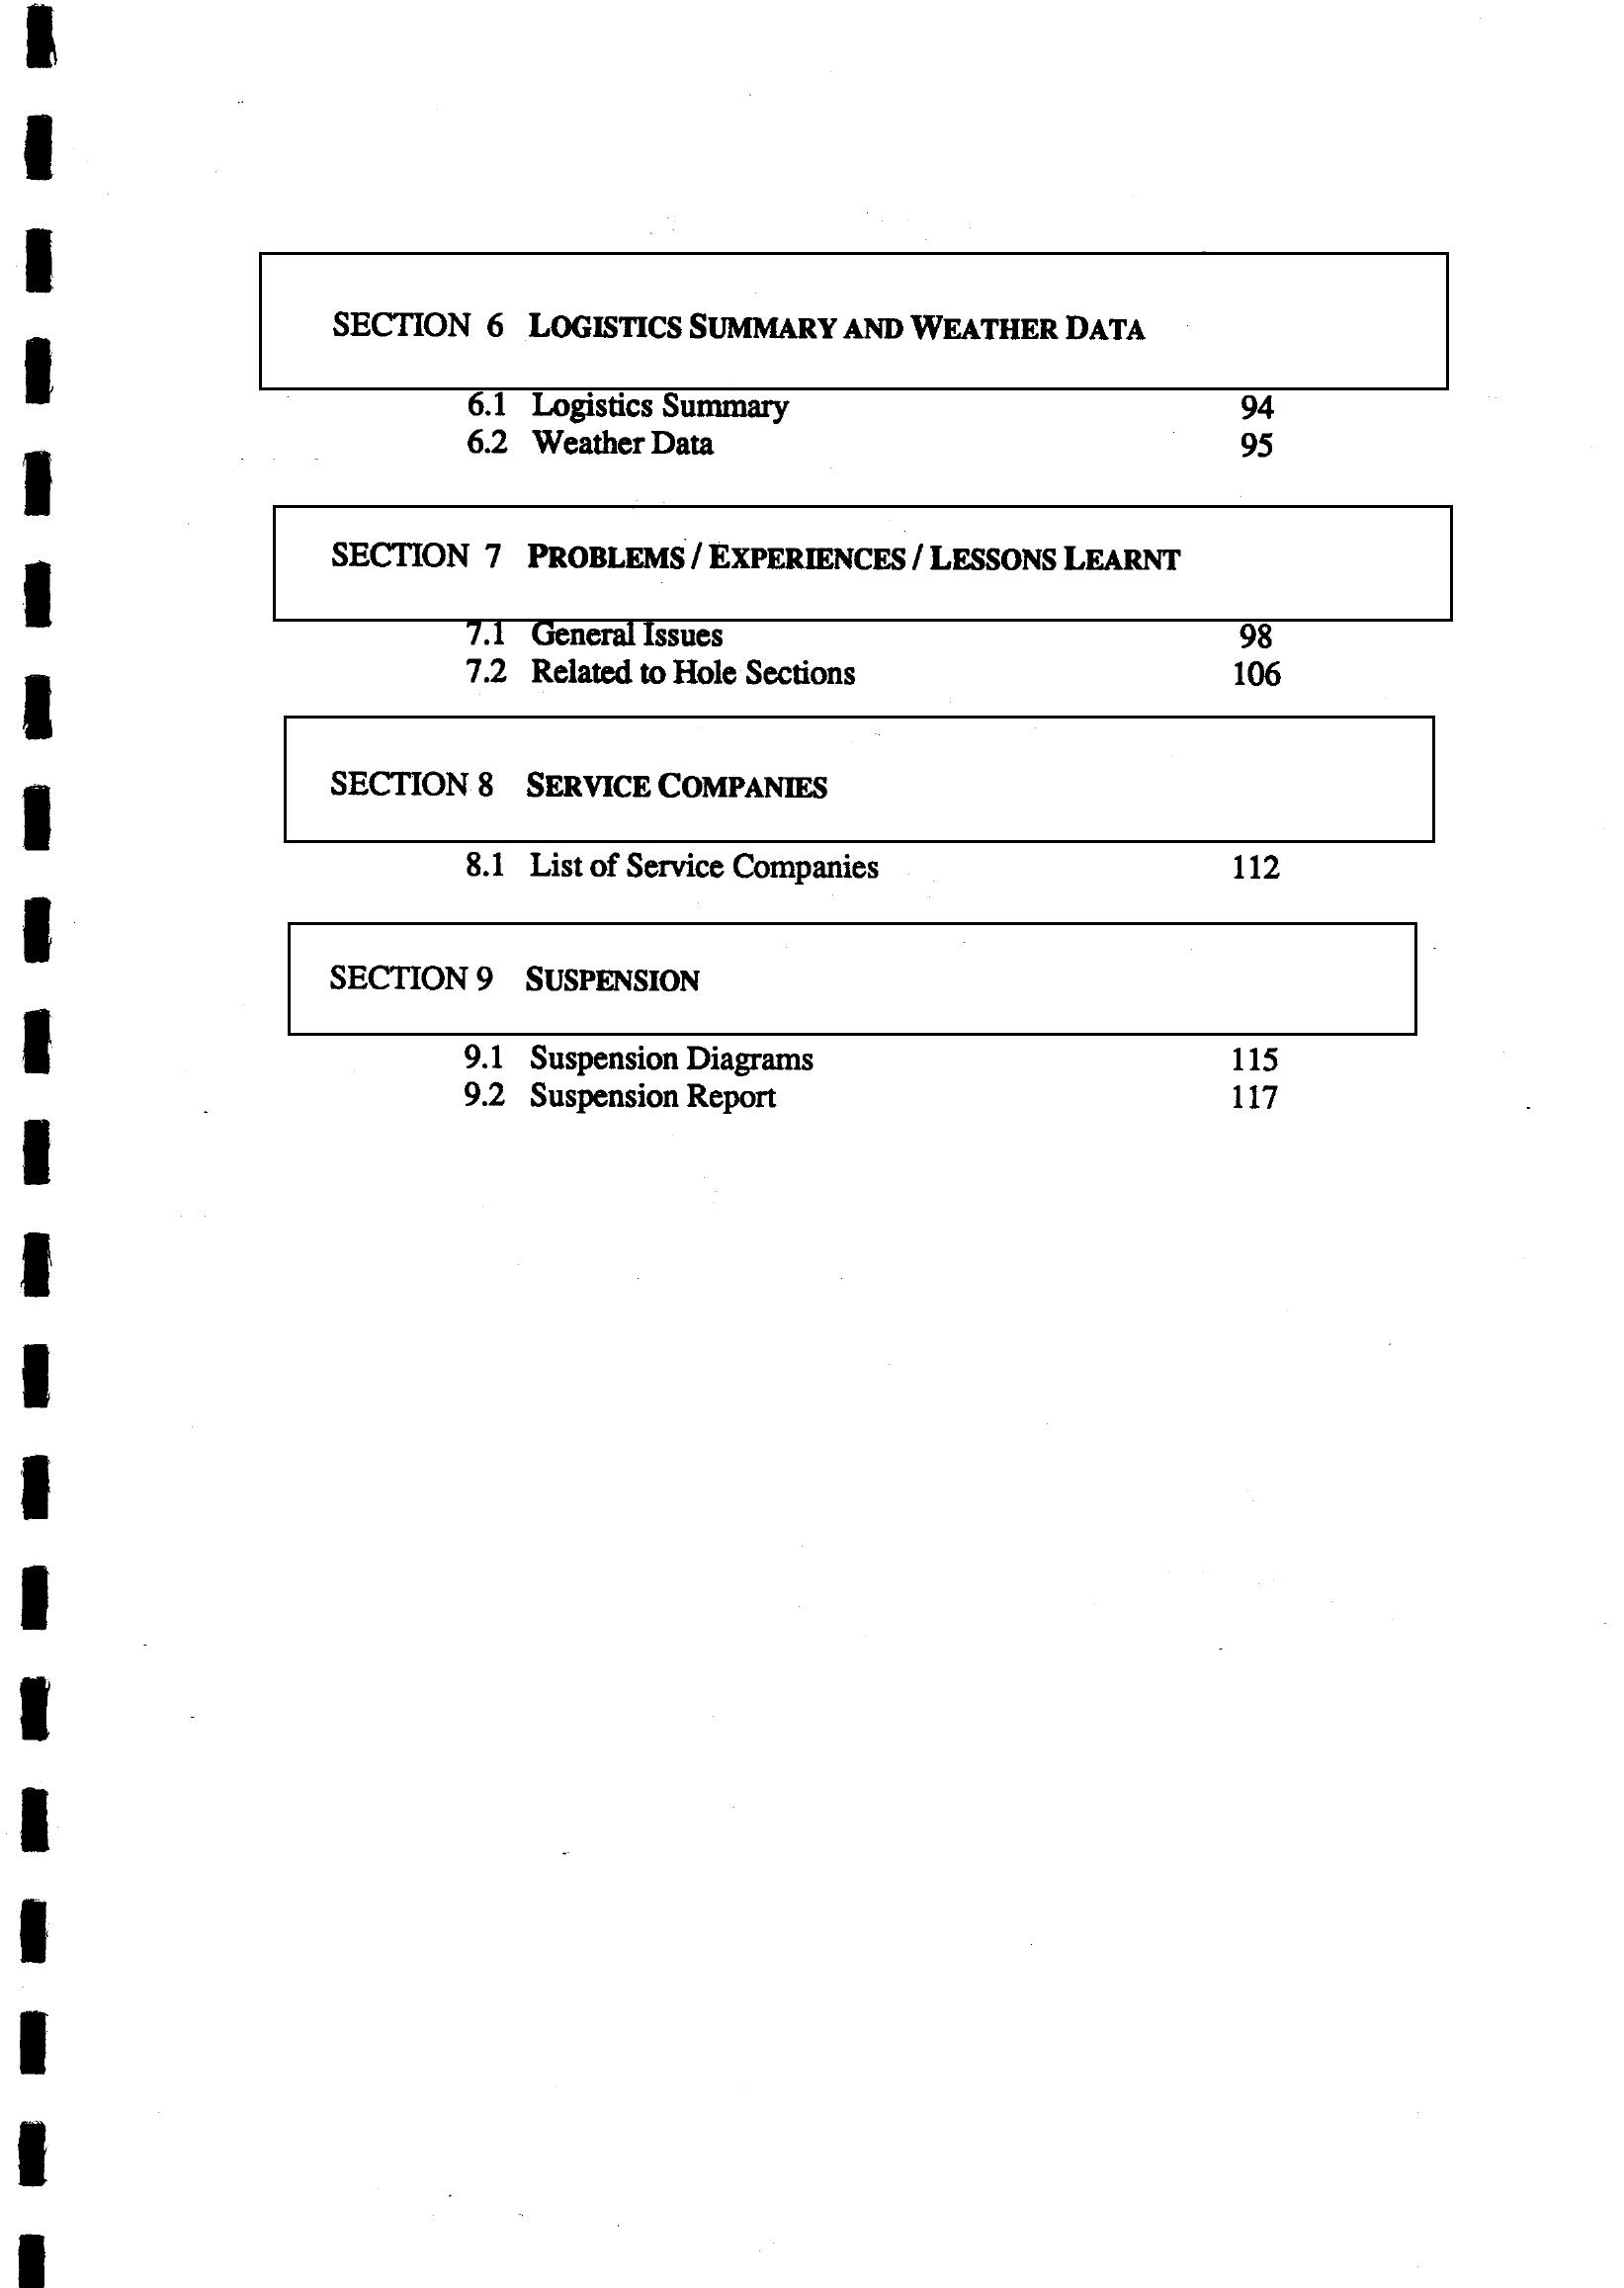text: (218, 220, 1487, 1186)
